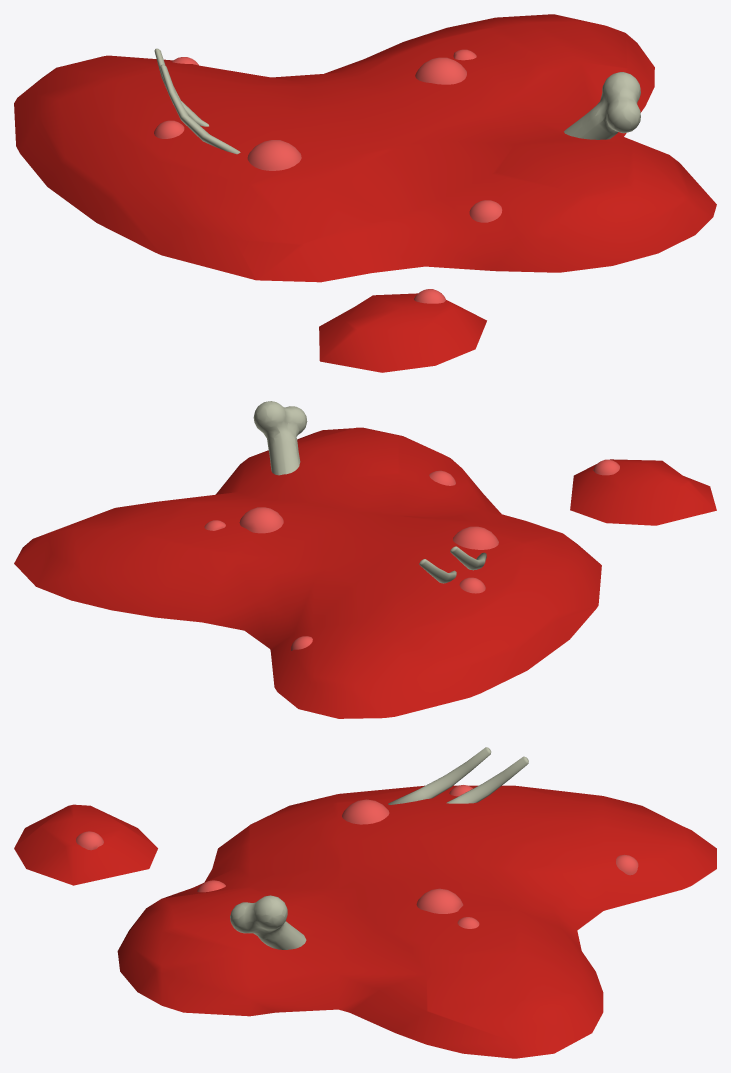
File: bloodGooPile.fbx
The picture shows the model from 3 angles, top to bottom: view 1: azimuth 30°, elevation 25°; view 2: azimuth 150°, elevation 25°; view 3: azimuth 270°, elevation 25°; orthographic projection. The views are drawn at different scales.
Parts seen in each view (by area): view 1: Blood Goo Pile; view 2: Blood Goo Pile; view 3: Blood Goo Pile.
Boxes of the visible parts, x1,y1,x2,y2 form: Blood Goo Pile: [14, 14, 716, 372]; Blood Goo Pile: [14, 401, 716, 718]; Blood Goo Pile: [14, 747, 716, 1058].
Size of the model in its own units: 199 by 230 by 35.08.
